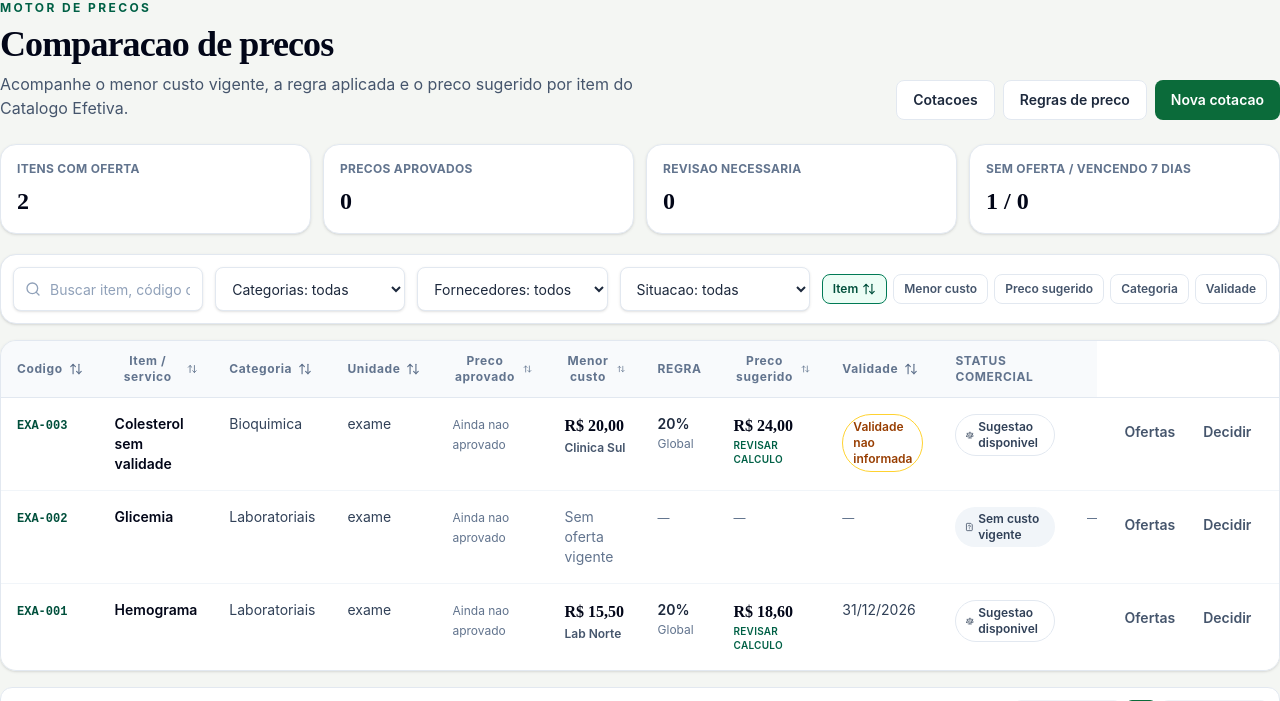
Test: ComparisonPage › exibe empty state filtrado com botao de limpar
Type "inexistente" into the field with placeholder "Buscar item, código ou fornecedor..." at (108, 289), box [13,267,203,311]
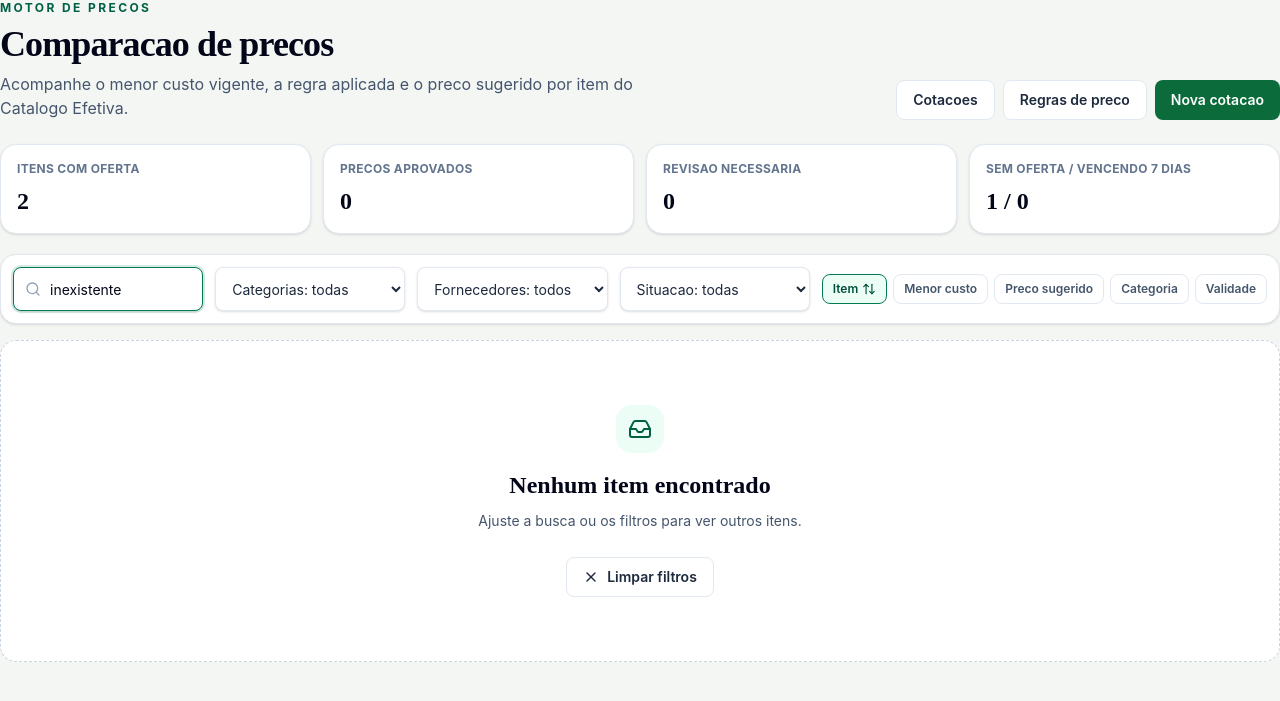
Check: the heading "Nenhum item encontrado" is shown, box [509,472,771,498]
Click the button "Limpar filtros" at (640, 577), box [566,557,714,597]
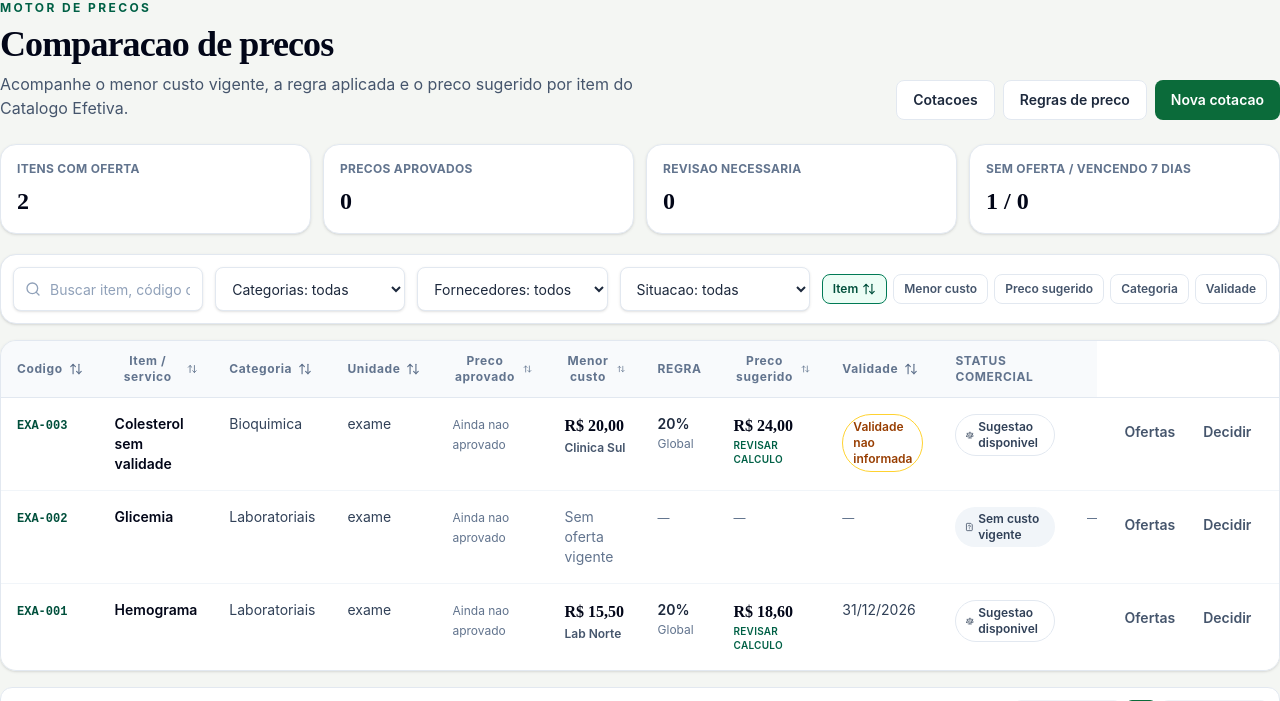
Check: the field with placeholder "Buscar item, código ou fornecedor..." is empty, box [13,267,203,311]
